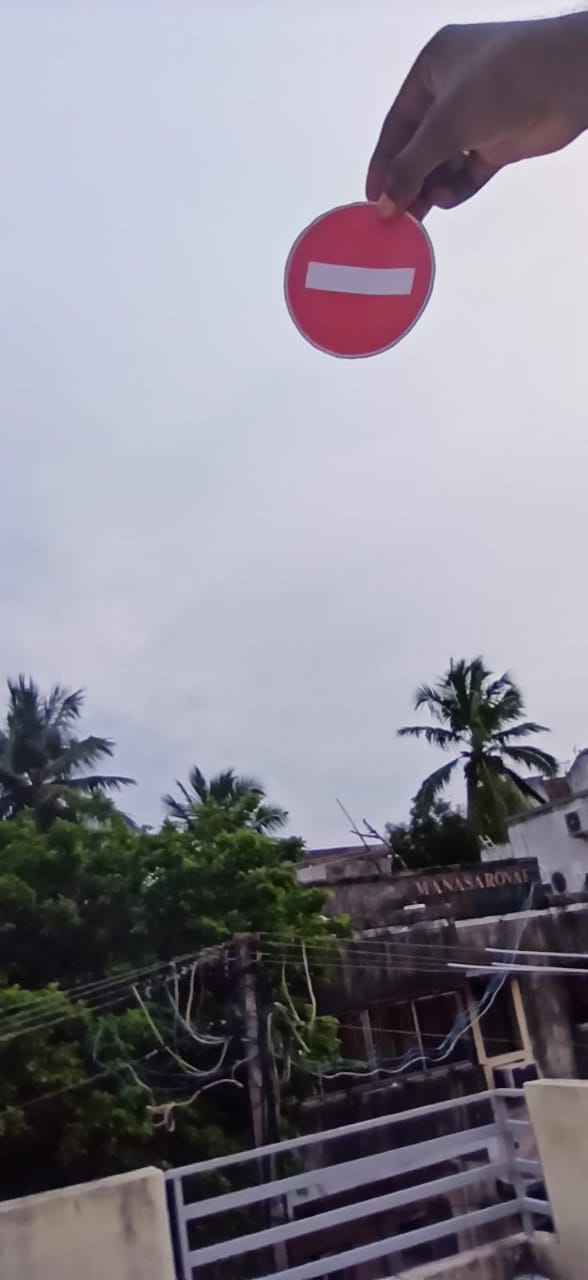NO ENTRY: (265, 168, 443, 371)
